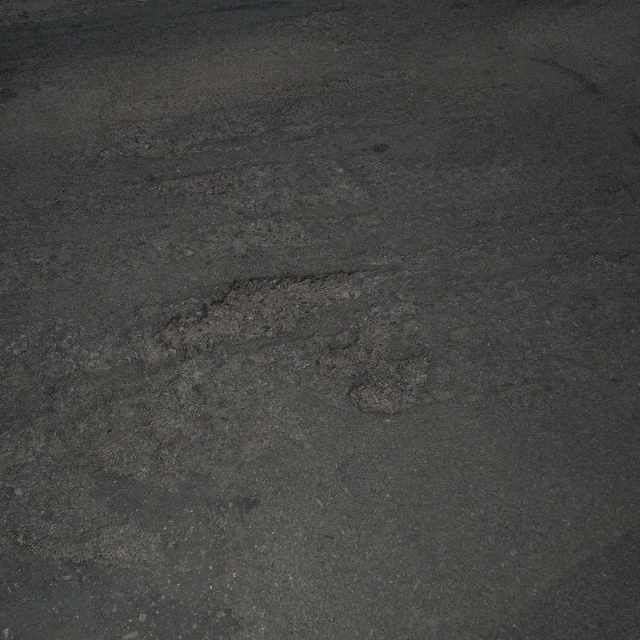pothole: (153, 267, 380, 351), (345, 351, 434, 415)
